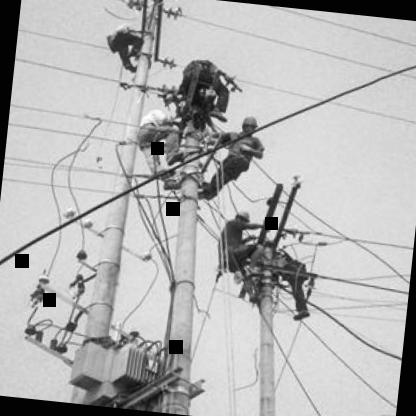helmet: (240, 114, 260, 138), (235, 208, 251, 227)
